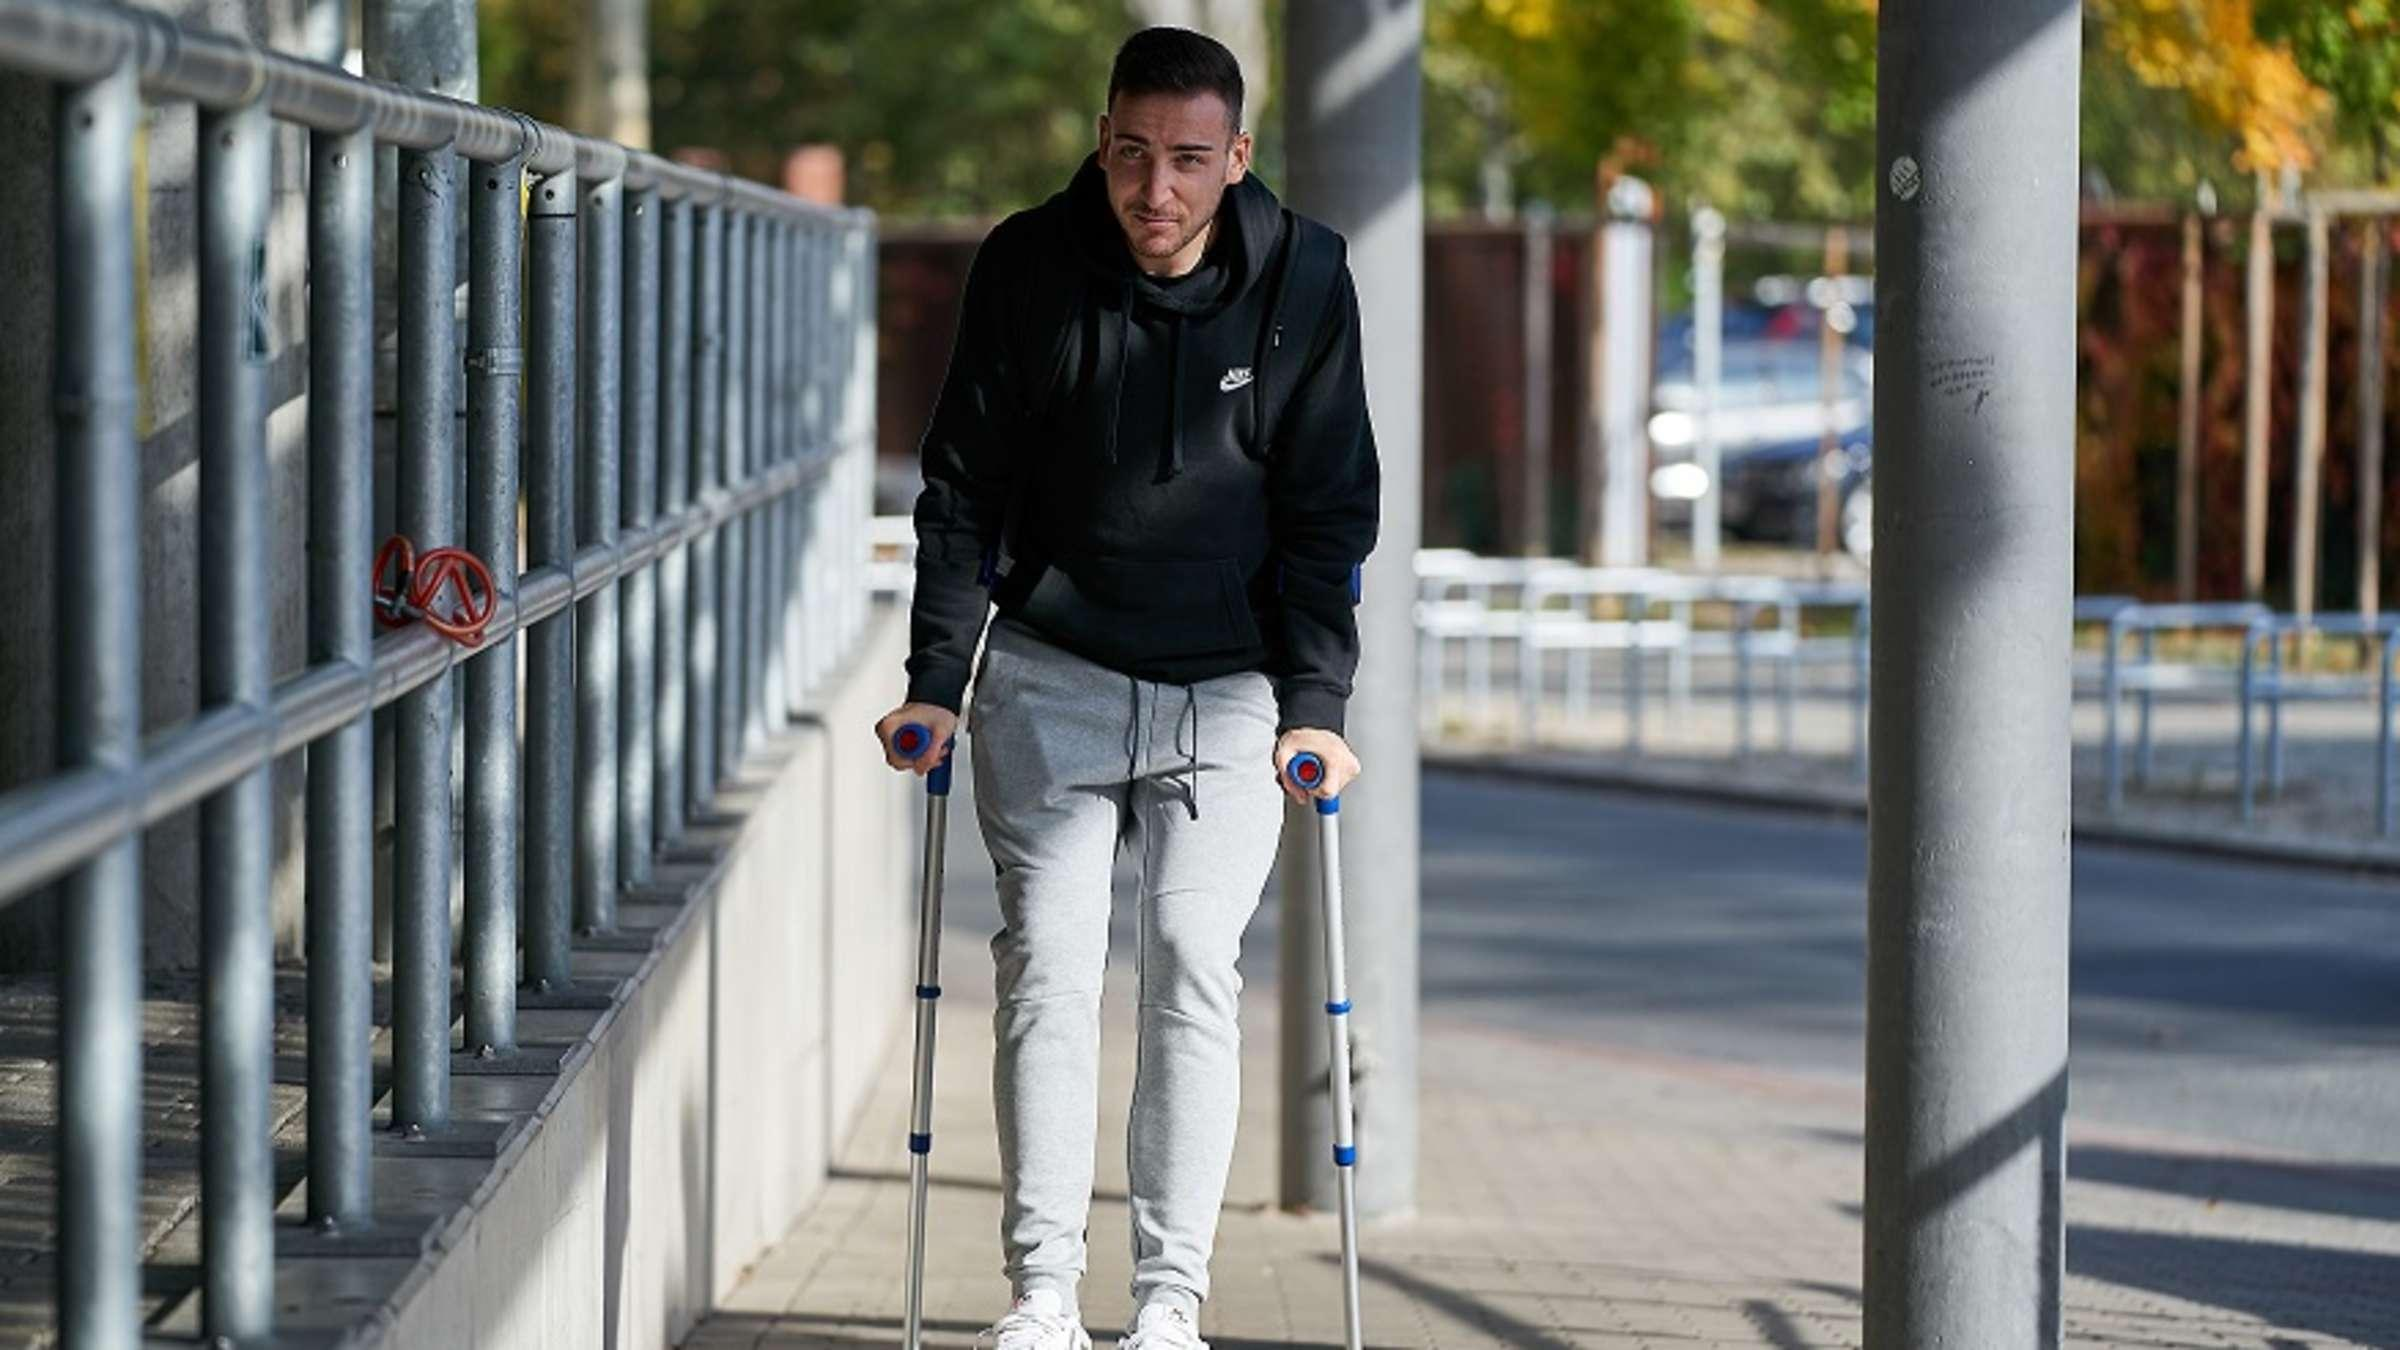crutches: (875, 26, 1383, 1350)
